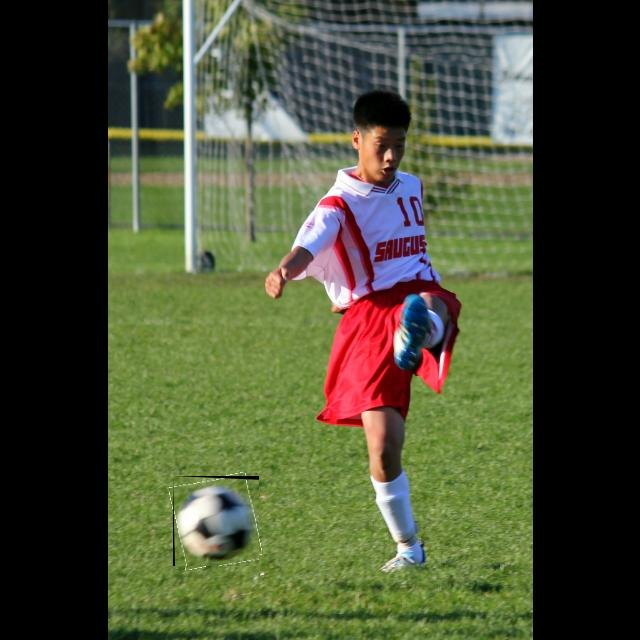Football: (173, 476, 259, 566)
